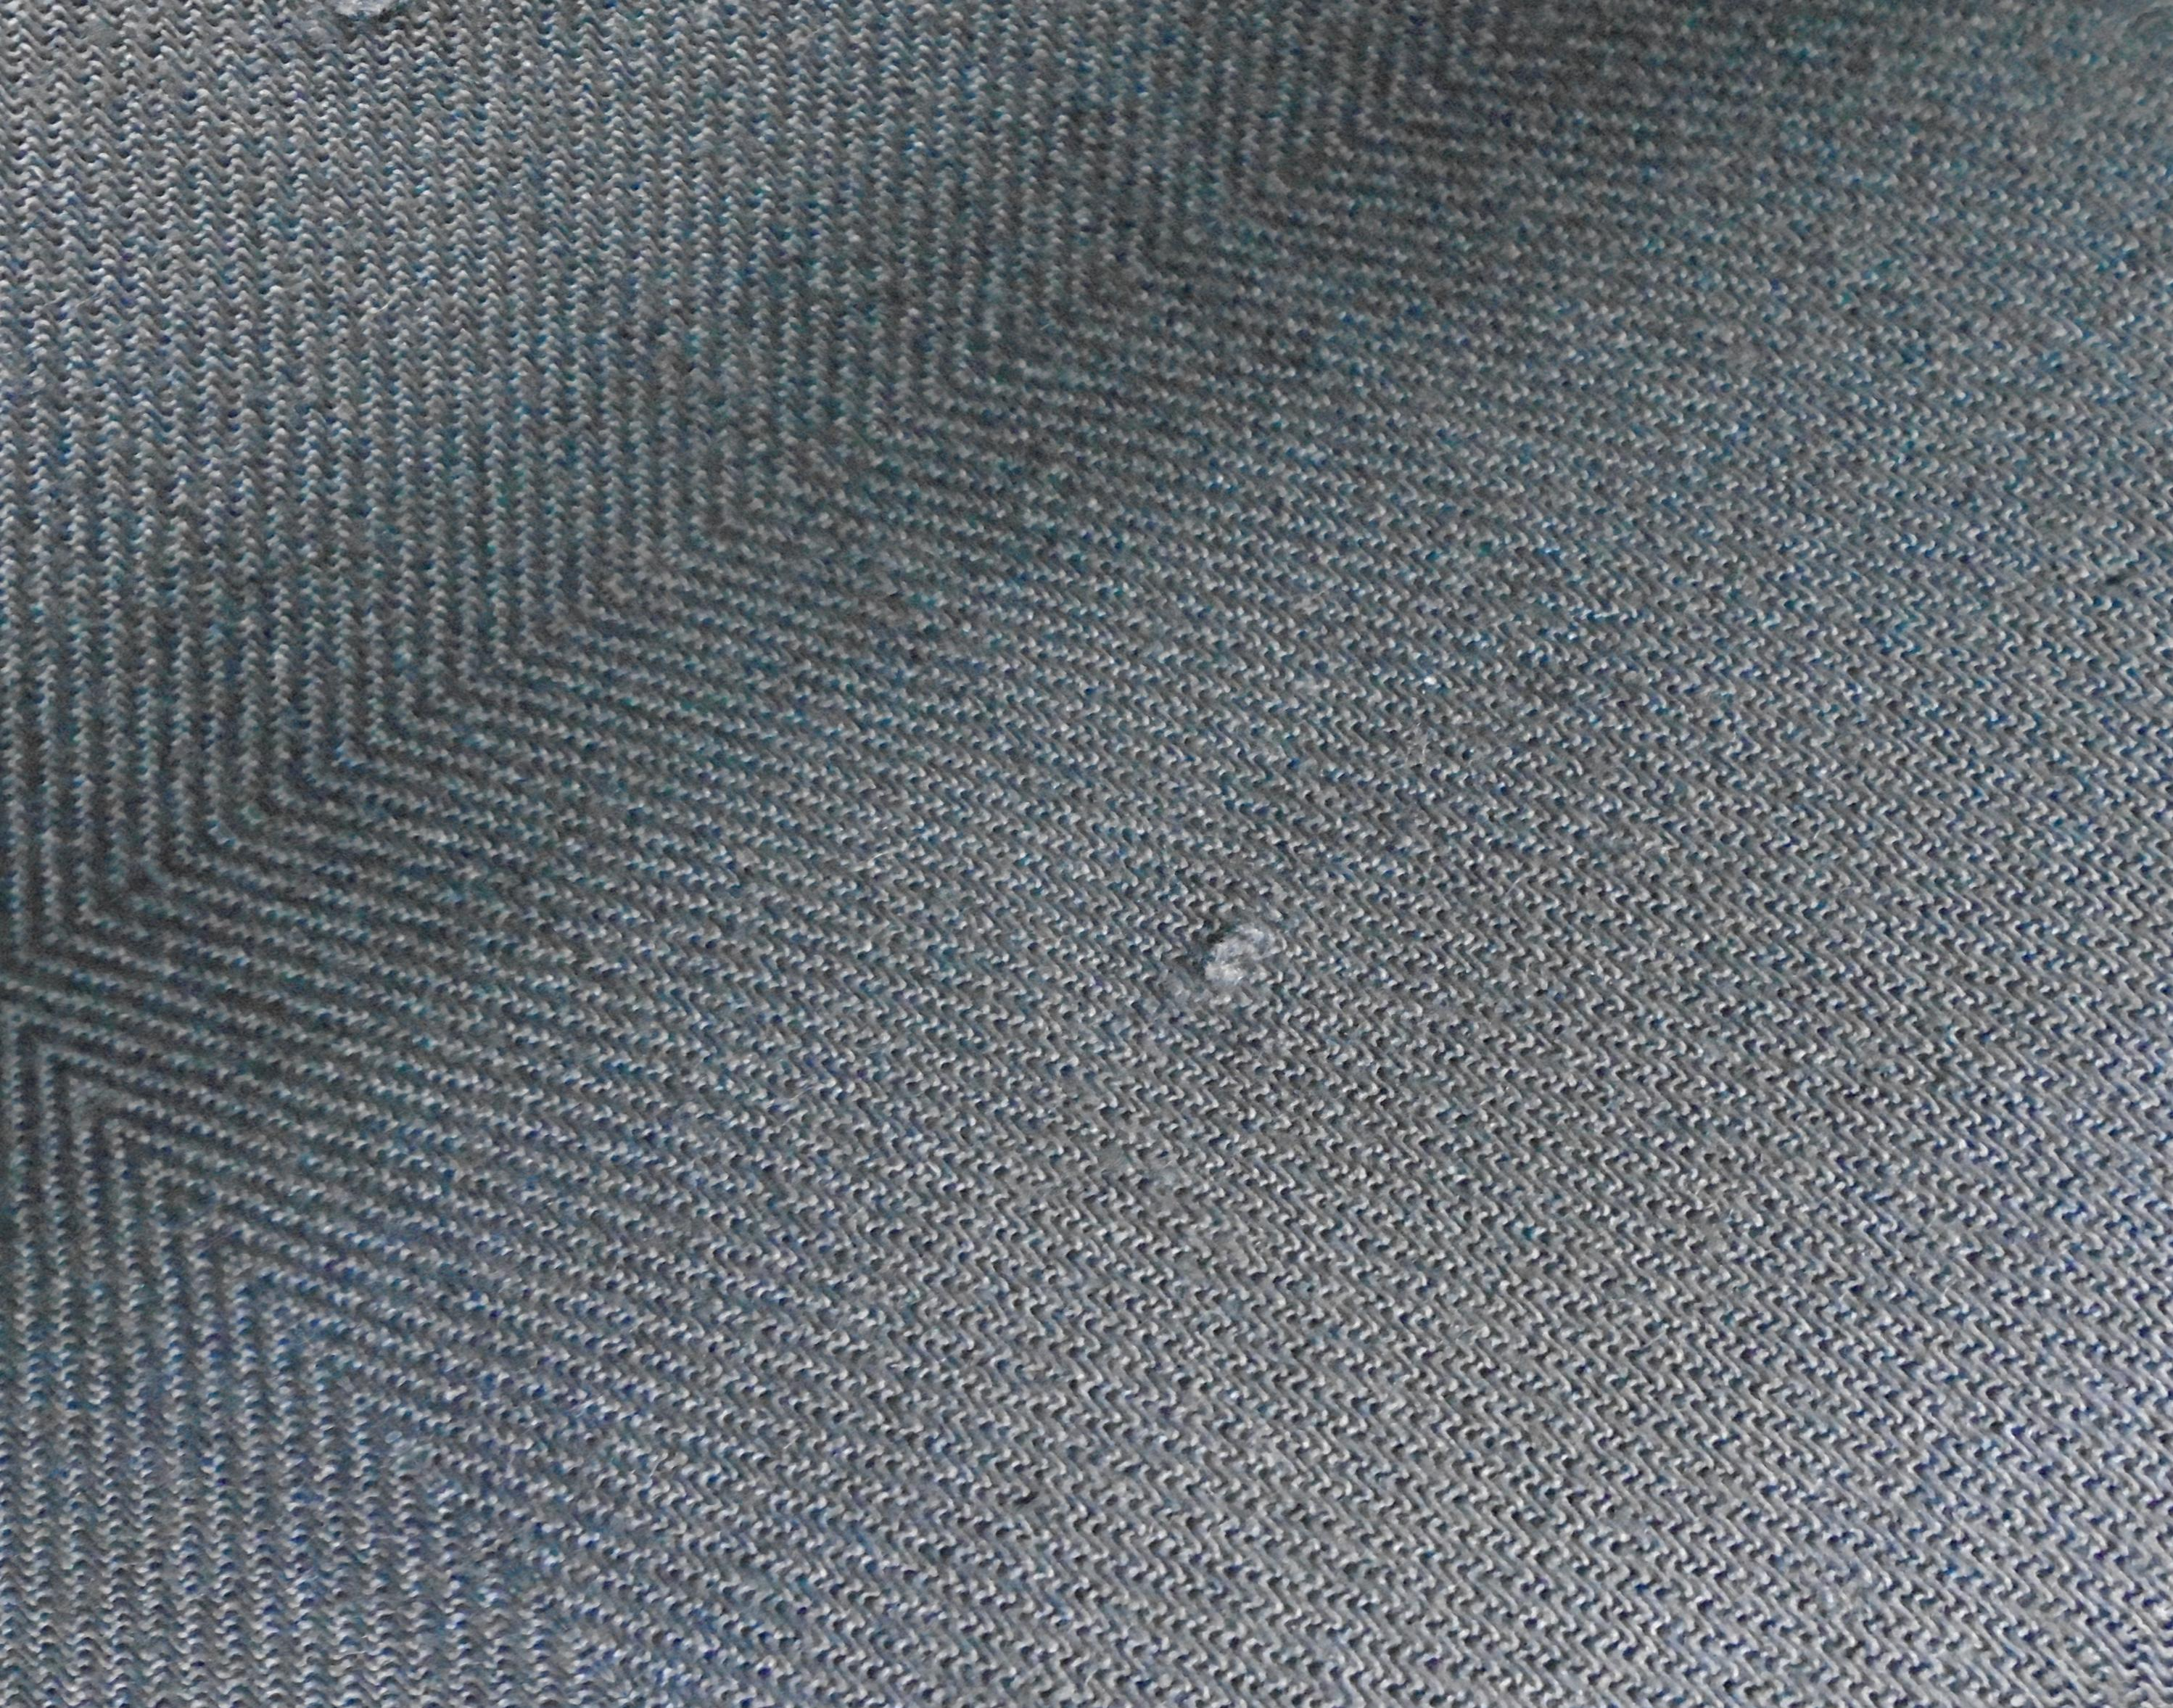knot: (1166, 900, 1311, 1025)
